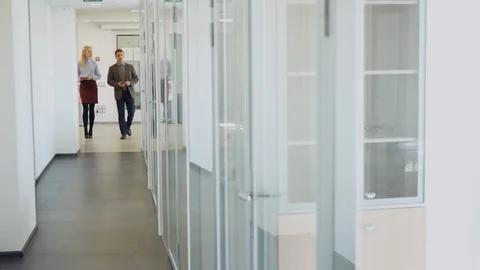jacket: (106, 62, 139, 100)
long sleeve shirt: (77, 59, 102, 81)
short sleeve shirt: (118, 62, 126, 91)
skirt: (80, 79, 99, 105)
trousers: (115, 90, 136, 133)
